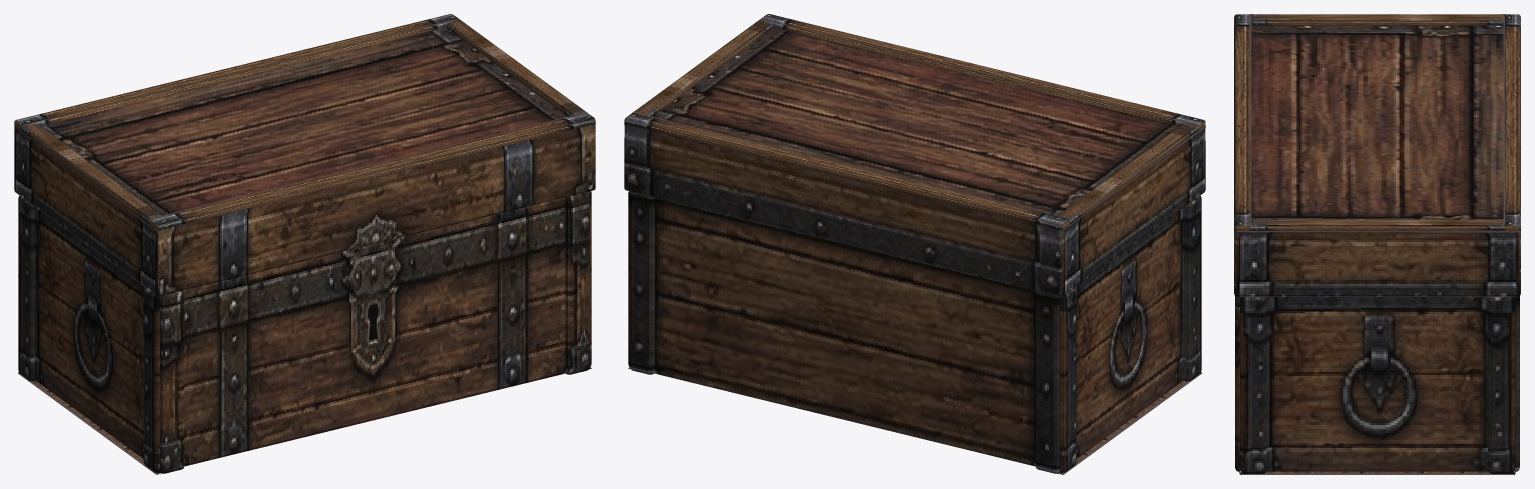
The model's file is chest_rustic_oak.glb.
3 views of the same model, side by side, from view 1: azimuth 30°, elevation 25°; view 2: azimuth 150°, elevation 25°; view 3: azimuth 270°, elevation 25° (orthographic).
Parts seen in each view (by area): view 1: lid, body; view 2: lid, body; view 3: lid, body.
Boxes of the visible parts, x1,y1,x2,y2 form: lid: (14, 14, 595, 296); body: (18, 191, 591, 474); lid: (624, 14, 1205, 296); body: (628, 191, 1201, 474); lid: (1234, 14, 1520, 296); body: (1235, 296, 1519, 474).
Size of the model in its own units: 1.03 by 0.562 by 0.584.
1 material, 1 textured.
